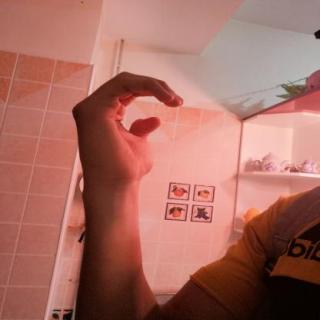JEEM: (60, 63, 194, 191)
